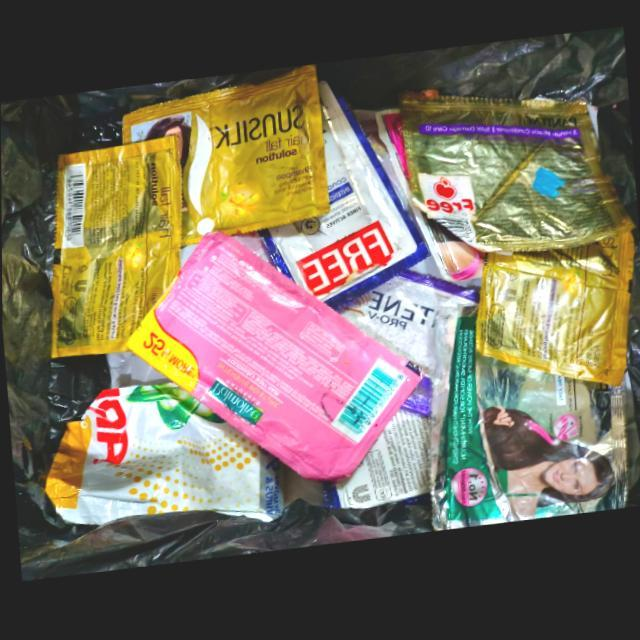wrapper: (124, 234, 422, 486), (431, 309, 640, 536), (385, 96, 631, 259), (259, 79, 428, 309), (121, 67, 329, 249), (43, 385, 283, 527), (50, 137, 182, 359), (474, 238, 634, 394), (333, 275, 477, 421), (321, 415, 438, 519)
